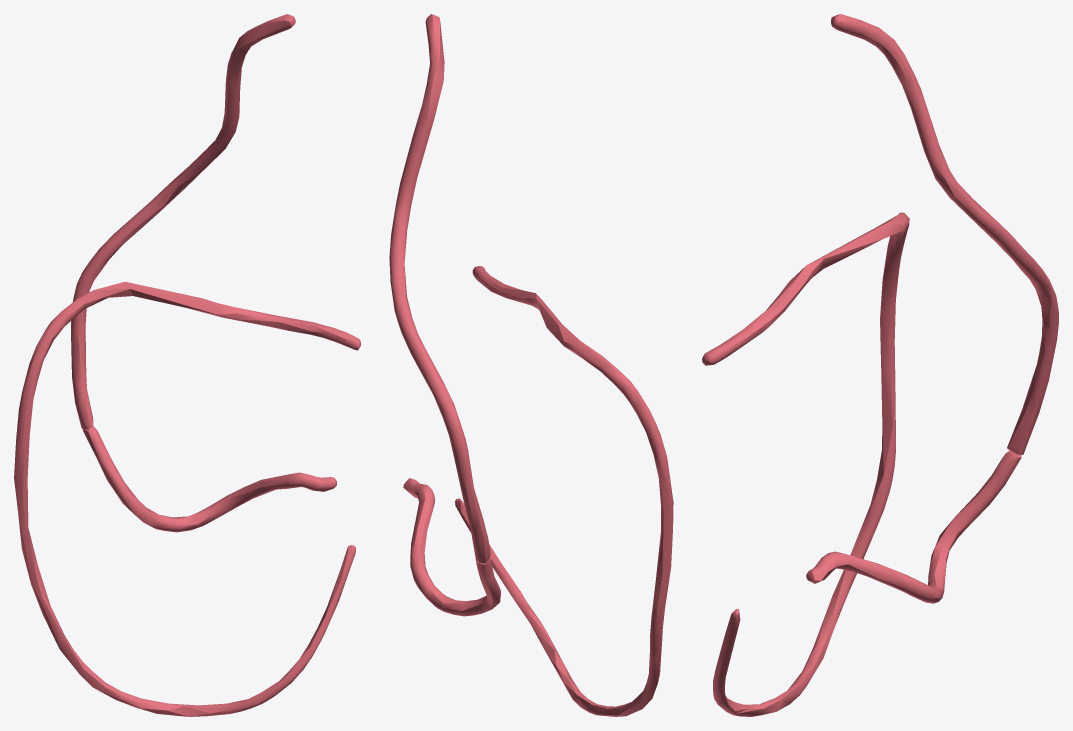
File: fma15398_cx20.glb
The picture shows the model from 3 angles, left to right: view 1: azimuth 30°, elevation 25°; view 2: azimuth 150°, elevation 25°; view 3: azimuth 270°, elevation 25°; orthographic projection. The views are drawn at different scales.
Parts seen in each view (by area): view 1: FMA15398_CX20; view 2: FMA15398_CX20; view 3: FMA15398_CX20.
Boxes of the visible parts, <box> form: FMA15398_CX20: <box>14,14,360,716</box>; FMA15398_CX20: <box>389,14,673,716</box>; FMA15398_CX20: <box>702,14,1058,716</box>.
Bounding box in the file's own units: 0.0386 × 0.0829 × 0.0353.
